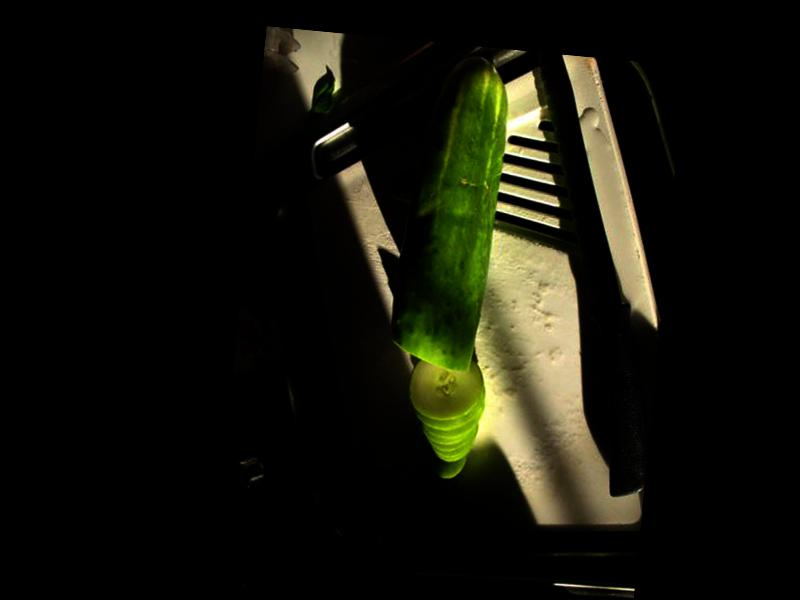Cucumber: (387, 50, 513, 375)
